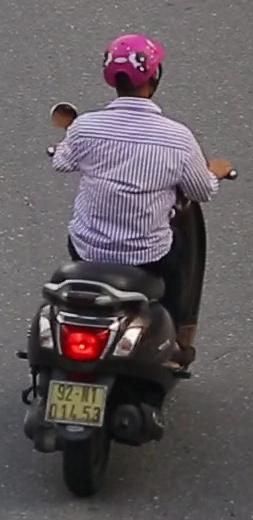LP: (97, 24, 169, 123)
helmet: (41, 378, 110, 429)
